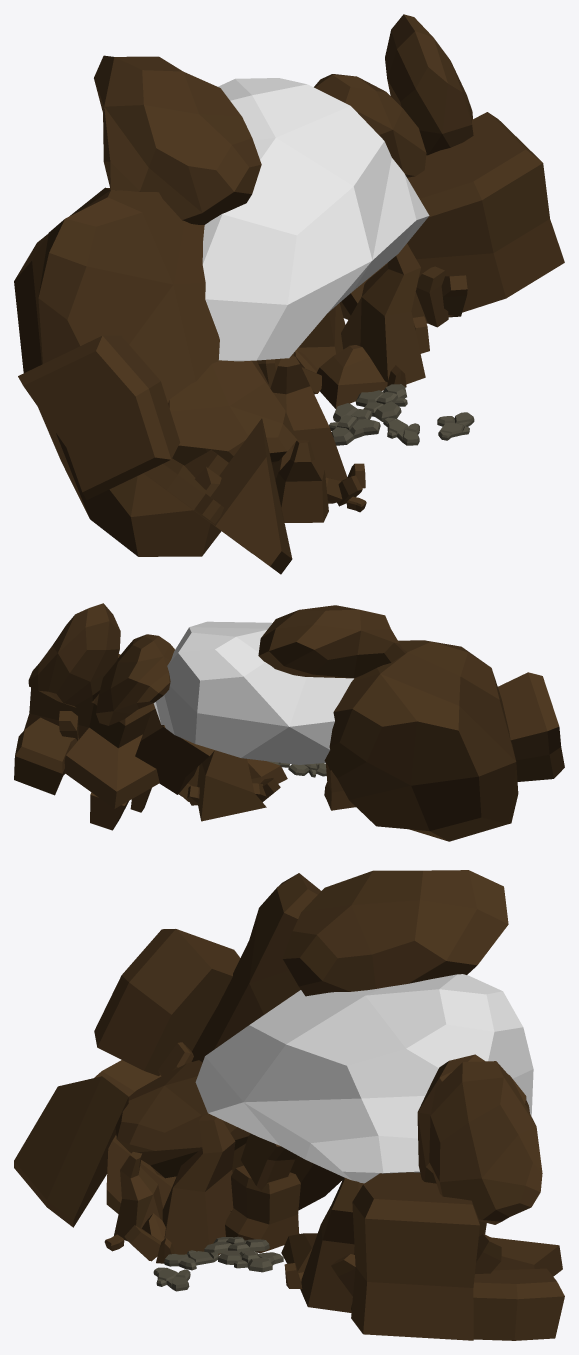
The model's file is FlowerHouse.fbx.
The picture shows the model from 3 angles, top to bottom: view 1: azimuth 30°, elevation 25°; view 2: azimuth 150°, elevation 25°; view 3: azimuth 270°, elevation 25°; orthographic projection. The views are drawn at different scales.
Visible parts, largest first — view 1: rock.002, rock.003, Rock Type6 02 mesh, rock.005, Rock Type6 04 mesh.003, Rock Type3 02 mesh, Rock Type5 02 mesh, rock.004, Rock Type3 01 mesh, rock.006, rock.001, Rock Type4 02 mesh (+3 smaller); view 2: rock.003, rock.002, Rock Type6 02 mesh, rock.005, rock.006, Rock Type6 04 mesh.003, Rock Type3 02 mesh, rock.001, Rock Type6 04 mesh.004, Rock Type6 03 mesh, Rock Type4 02 mesh; view 3: rock.002, Rock Type6 02 mesh, rock.005, rock.006, Rock Type5 02 mesh, Rock Type6 04 mesh.003, Rock Type3 01 mesh, rock.003, rock.004, Rock Type3 02 mesh, Rock Type6 03 mesh, Rock Type6 04 mesh.001 (+6 smaller).
Part boxes in pixels (x1,y1,x2,y2): rock.002: (202,78,429,361); rock.003: (14,187,221,556); Rock Type6 02 mesh: (407,112,564,327); rock.005: (94,55,261,224); Rock Type6 04 mesh.003: (18,335,180,499); Rock Type3 02 mesh: (294,243,429,408); Rock Type5 02 mesh: (143,418,292,574); rock.004: (168,360,297,465); Rock Type3 01 mesh: (270,356,365,522); rock.006: (385,14,473,155); rock.001: (314,74,426,177); Rock Type4 02 mesh: (329,403,380,445); rock.003: (324,640,518,841); rock.002: (153,621,353,764); Rock Type6 02 mesh: (14,654,159,830); rock.005: (258,605,405,678); rock.006: (28,603,120,707); Rock Type6 04 mesh.003: (498,672,564,781); Rock Type3 02 mesh: (179,750,287,821); rock.001: (96,634,174,725); Rock Type6 04 mesh.004: (135,710,214,794); Rock Type6 03 mesh: (324,763,355,810); Rock Type4 02 mesh: (288,763,326,777); rock.002: (195,974,533,1183); Rock Type6 02 mesh: (331,1172,564,1340); rock.005: (283,870,508,996); rock.006: (429,1061,542,1224); Rock Type5 02 mesh: (14,1060,176,1227); Rock Type6 04 mesh.003: (94,929,240,1075); Rock Type3 01 mesh: (114,1114,235,1263); rock.003: (176,873,343,1209); rock.004: (115,1060,250,1178); Rock Type3 02 mesh: (281,1177,364,1312); Rock Type6 03 mesh: (225,1165,300,1253); Rock Type6 04 mesh.001: (241,1133,297,1190).
Size of the model in its own units: 3440 by 2001 by 2583.
